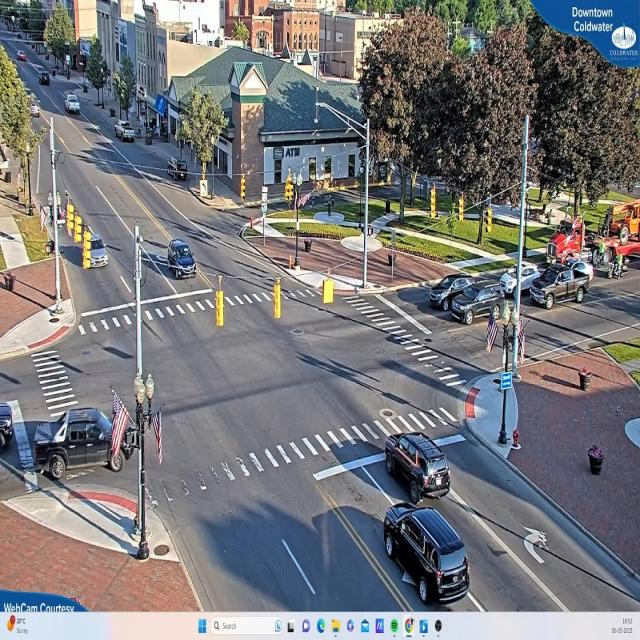car: (384, 504, 473, 604), (34, 407, 116, 479), (386, 431, 452, 502), (527, 258, 591, 309), (448, 284, 504, 325), (501, 252, 541, 297), (429, 276, 477, 308), (168, 234, 195, 280), (117, 122, 137, 144), (64, 94, 80, 114), (40, 72, 52, 84)
